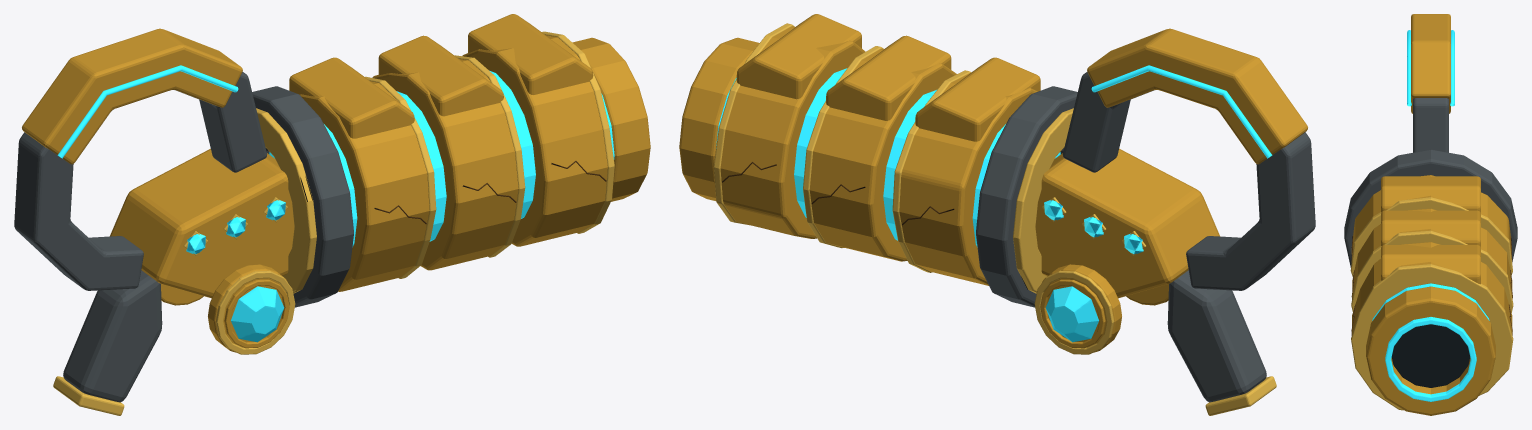
Rendered from shyre-authoring-preview-v11.glb.
3 renders of one model, left to right at view 1: azimuth 30°, elevation 25°; view 2: azimuth 150°, elevation 25°; view 3: azimuth 270°, elevation 25°, orthographic. The views are drawn at different scales.
Visible parts, largest first — view 1: Central gold receiver, Hollow rear charcoal loop, Upper loop gold crown, Gold rib 2, Gold rib 3, Gold rib 1, Grey structural collar, Lower charcoal hand grip, Front gold lip, Raised sculpted rib crown 0, Raised sculpted rib crown 1, Raised sculpted rib crown 2 (+12 smaller); view 2: Central gold receiver, Hollow rear charcoal loop, Upper loop gold crown, Gold rib 3, Gold rib 2, Gold rib 1, Grey structural collar, Lower charcoal hand grip, Front gold lip, Raised sculpted rib crown 0, Raised sculpted rib crown 1, Raised sculpted rib crown 2 (+12 smaller); view 3: Front gold lip, Rib edge 3, Grey structural collar, Recessed dark face, Upper loop gold crown, Raised sculpted rib crown 0, Raised sculpted rib crown 1, Raised sculpted rib crown 2, Hollow rear charcoal loop, Front cyan inset, Rib edge 2, Rib edge 1 (+6 smaller).
Boxes of the visible parts, left/top/right/bottom form: Central gold receiver: left=109, top=148, right=294, bottom=298; Hollow rear charcoal loop: left=14, top=72, right=267, bottom=290; Upper loop gold crown: left=22, top=28, right=242, bottom=164; Gold rib 2: left=372, top=59, right=518, bottom=270; Gold rib 3: left=462, top=35, right=607, bottom=246; Gold rib 1: left=299, top=81, right=429, bottom=291; Grey structural collar: left=252, top=86, right=353, bottom=307; Lower charcoal hand grip: left=63, top=270, right=162, bottom=402; Front gold lip: left=572, top=37, right=650, bottom=201; Raised sculpted rib crown 0: left=289, top=57, right=414, bottom=138; Raised sculpted rib crown 1: left=378, top=35, right=503, bottom=116; Raised sculpted rib crown 2: left=468, top=14, right=593, bottom=94; Central gold receiver: left=1035, top=148, right=1220, bottom=298; Hollow rear charcoal loop: left=1062, top=72, right=1315, bottom=290; Upper loop gold crown: left=1087, top=28, right=1307, bottom=164; Gold rib 3: left=720, top=26, right=865, bottom=238; Gold rib 2: left=809, top=49, right=956, bottom=261; Gold rib 1: left=899, top=73, right=1037, bottom=285; Grey structural collar: left=976, top=86, right=1077, bottom=307; Lower charcoal hand grip: left=1167, top=270, right=1266, bottom=402; Front gold lip: left=679, top=37, right=759, bottom=200; Raised sculpted rib crown 0: left=915, top=57, right=1040, bottom=141; Raised sculpted rib crown 1: left=826, top=35, right=951, bottom=120; Raised sculpted rib crown 2: left=736, top=14, right=861, bottom=99; Front gold lip: left=1366, top=286, right=1495, bottom=415; Rib edge 3: left=1351, top=264, right=1513, bottom=410; Grey structural collar: left=1344, top=149, right=1517, bottom=267; Recessed dark face: left=1391, top=324, right=1470, bottom=387; Upper loop gold crown: left=1411, top=14, right=1450, bottom=113; Raised sculpted rib crown 0: left=1381, top=176, right=1480, bottom=212; Raised sculpted rib crown 1: left=1381, top=210, right=1480, bottom=246; Raised sculpted rib crown 2: left=1381, top=245, right=1480, bottom=284; Hollow rear charcoal loop: left=1413, top=98, right=1448, bottom=152; Front cyan inset: left=1385, top=317, right=1476, bottom=401; Rib edge 2: left=1351, top=230, right=1513, bottom=312; Rib edge 1: left=1350, top=197, right=1512, bottom=276.
Size of what is drawn, in the model's own units: 5.65 by 3.22 by 1.82.
11 materials, 11 textured.
